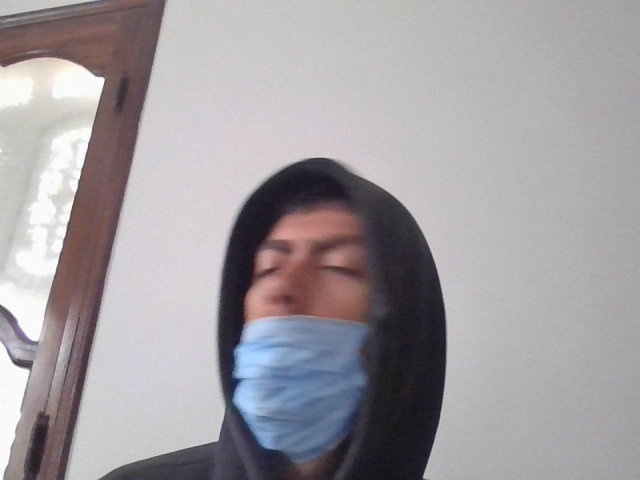mask_weared_incorrect: (219, 194, 383, 452)
